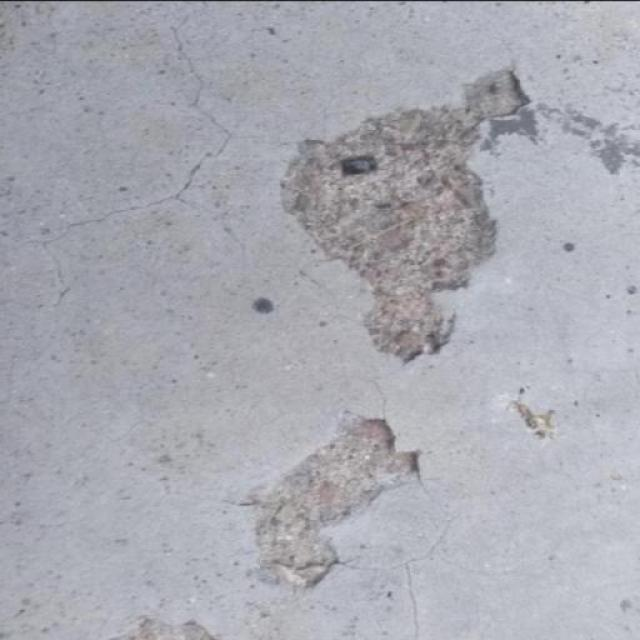D10: (278, 69, 529, 362), (244, 416, 419, 588), (108, 618, 215, 639)
